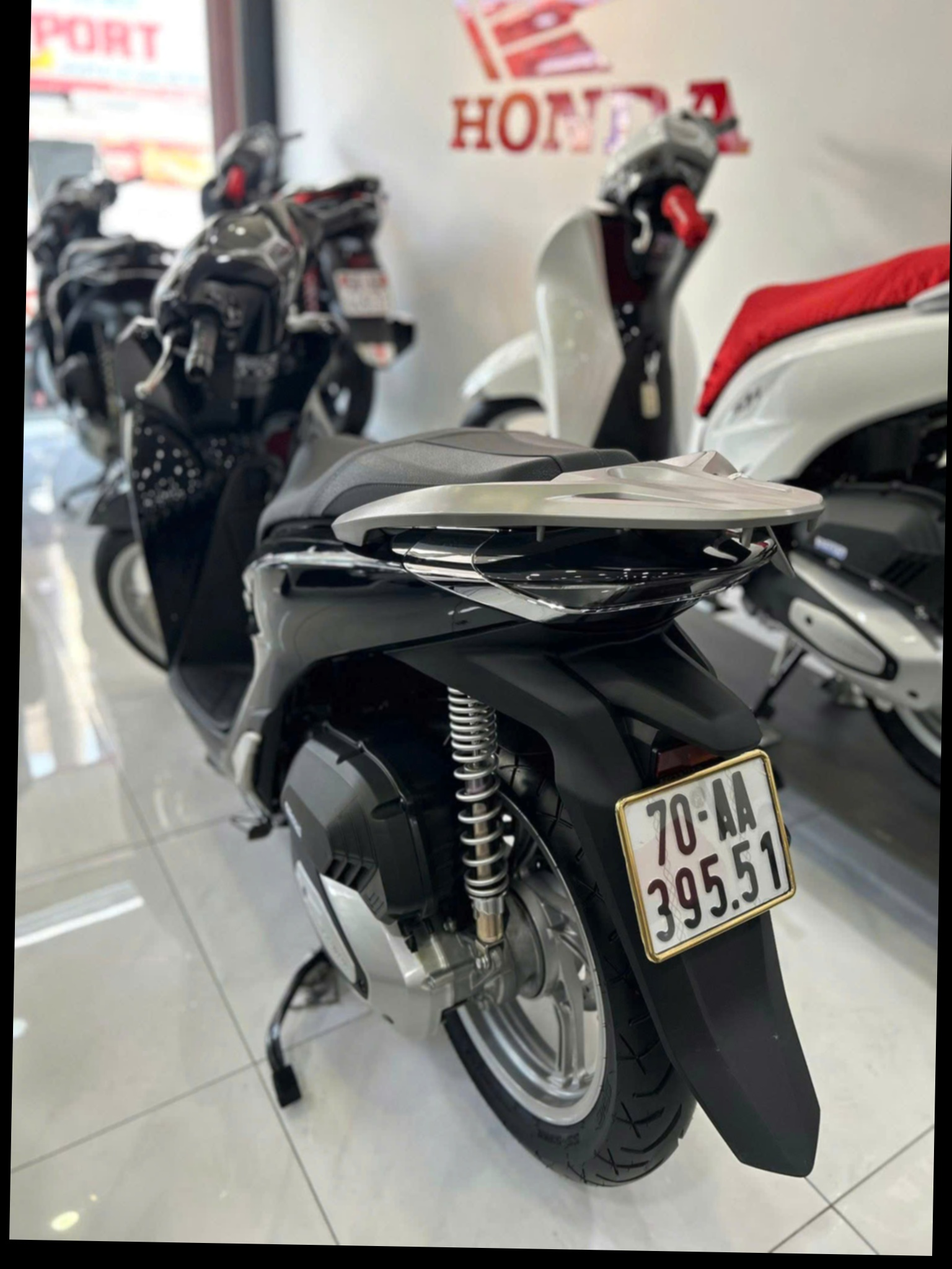Bien-so: (602, 810, 813, 1033)
